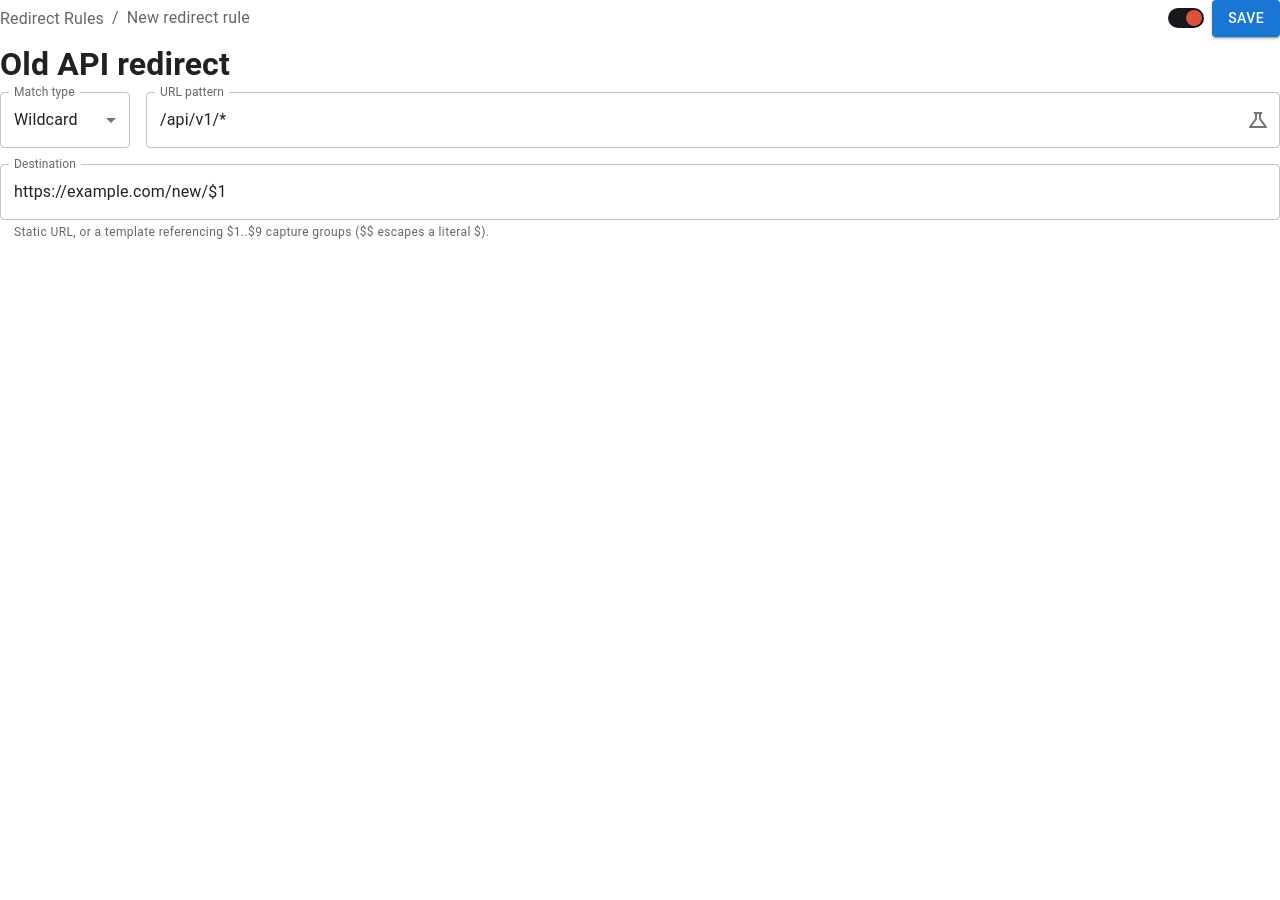
Test: RedirectRuleForm › closes the PatternTester dialog when Close is clicked
Click the button named "Test pattern": (1258, 120) [1238, 100, 1278, 140]
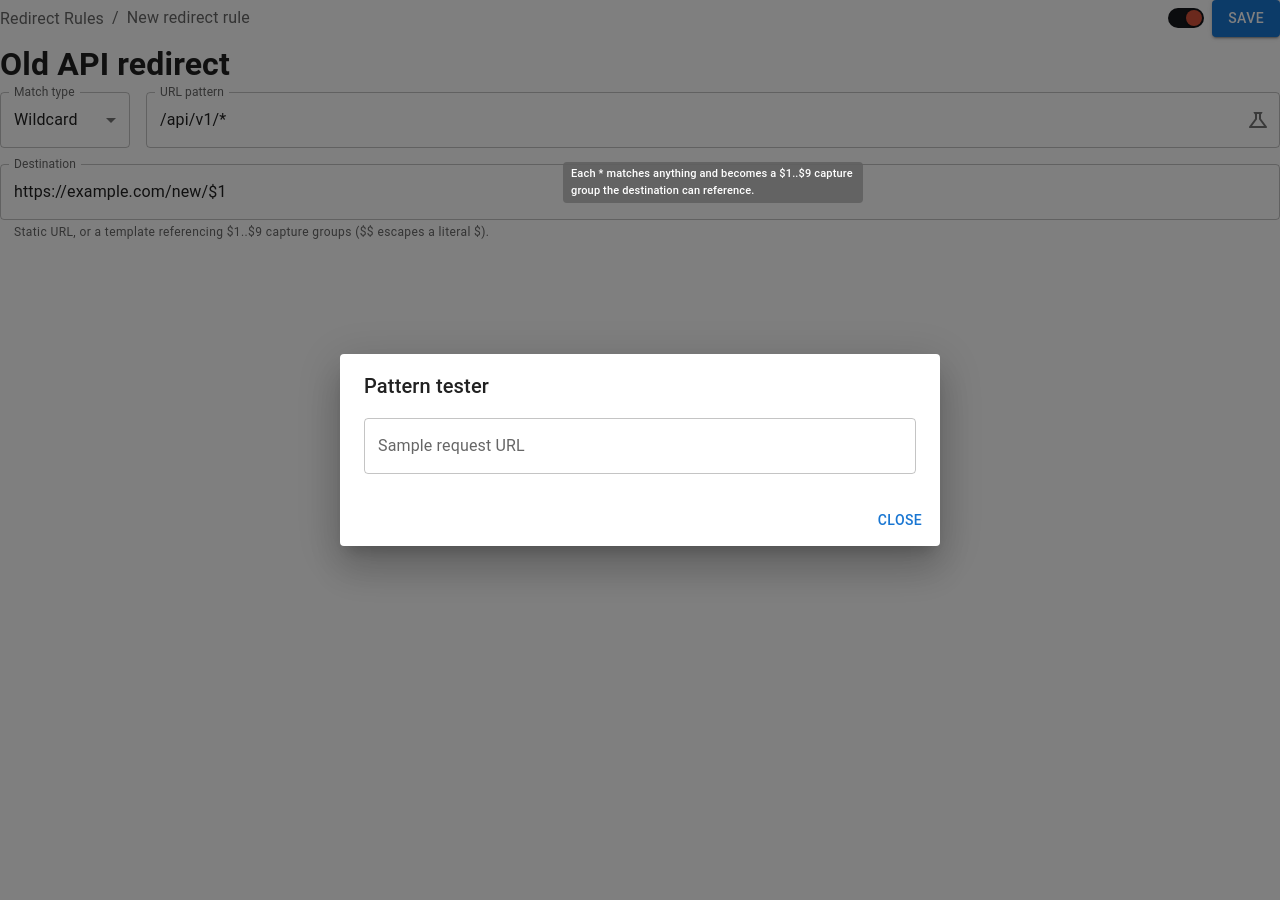
Click the button "Close": (900, 520) [868, 502, 932, 538]
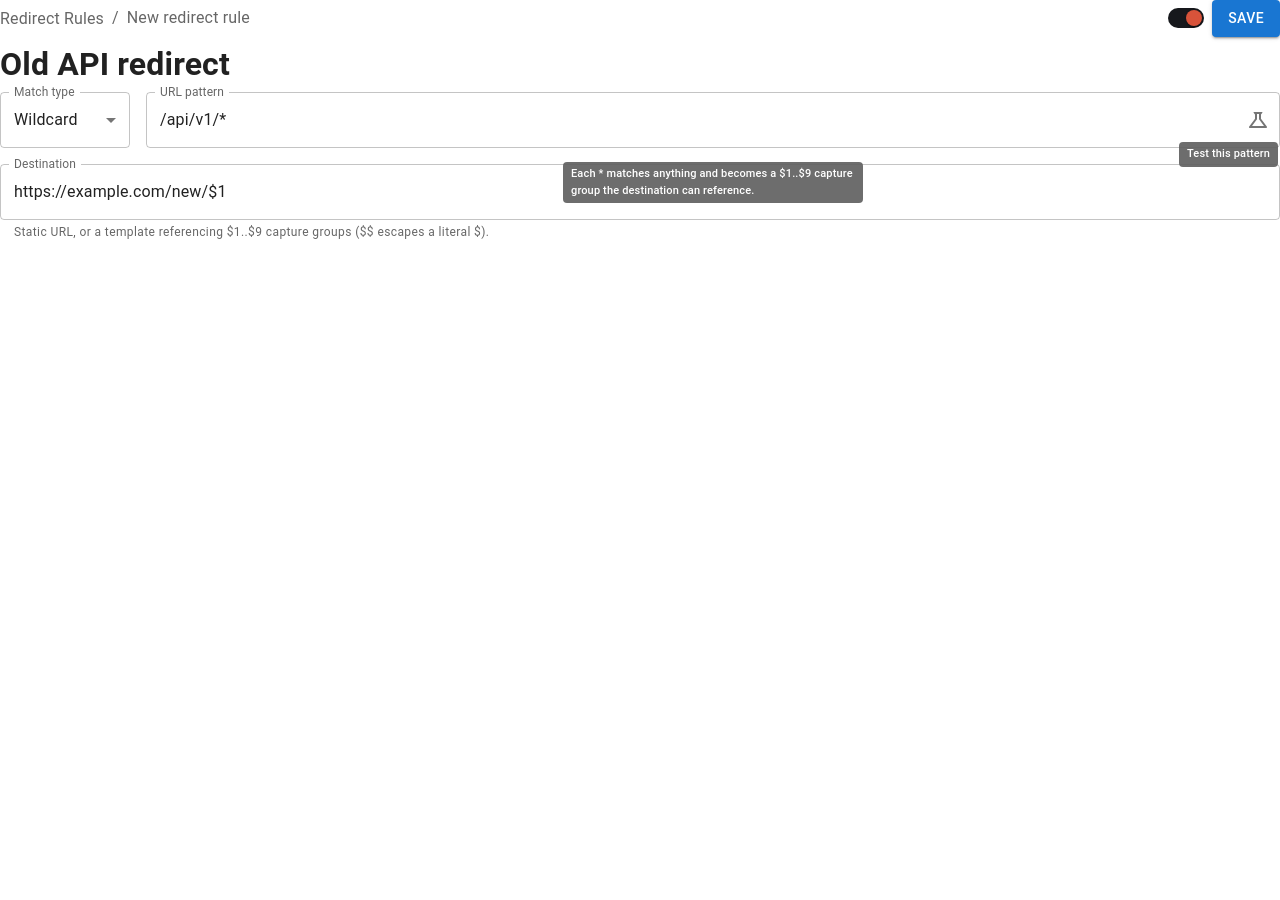
Now the label labelled "Sample request URL" is gone
